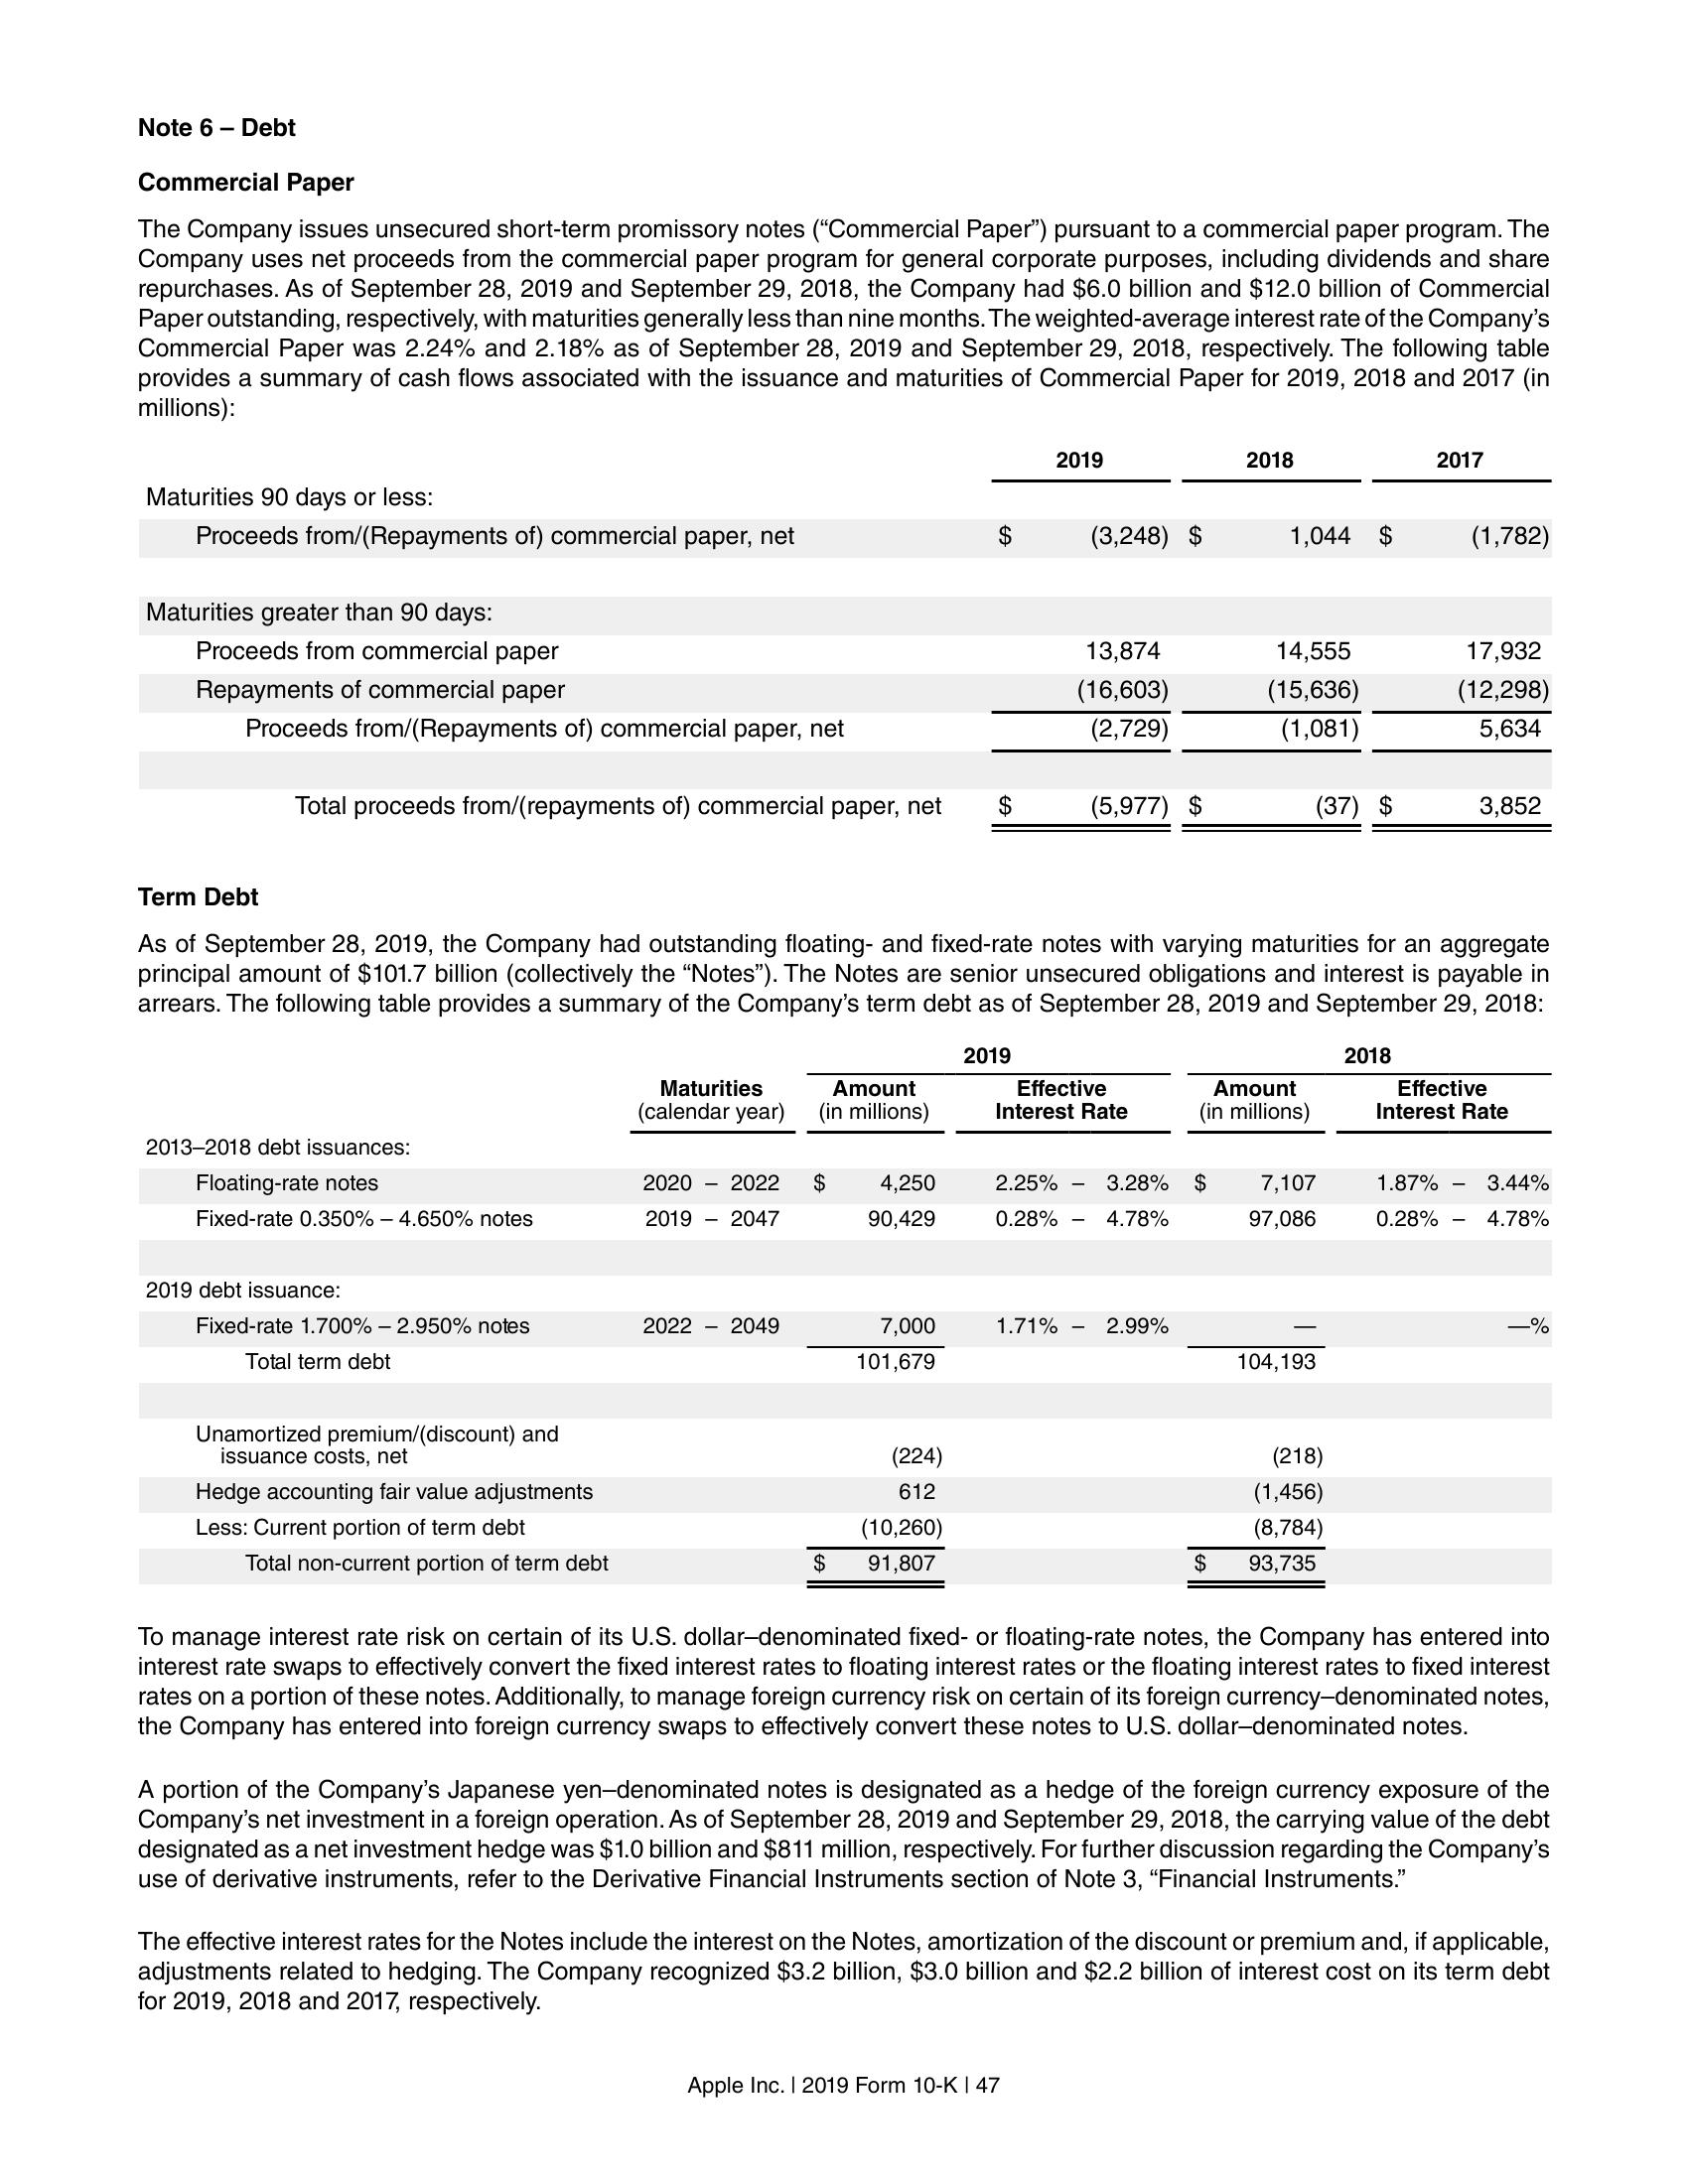table: (138, 1037, 1557, 1595), (142, 447, 1560, 840)
